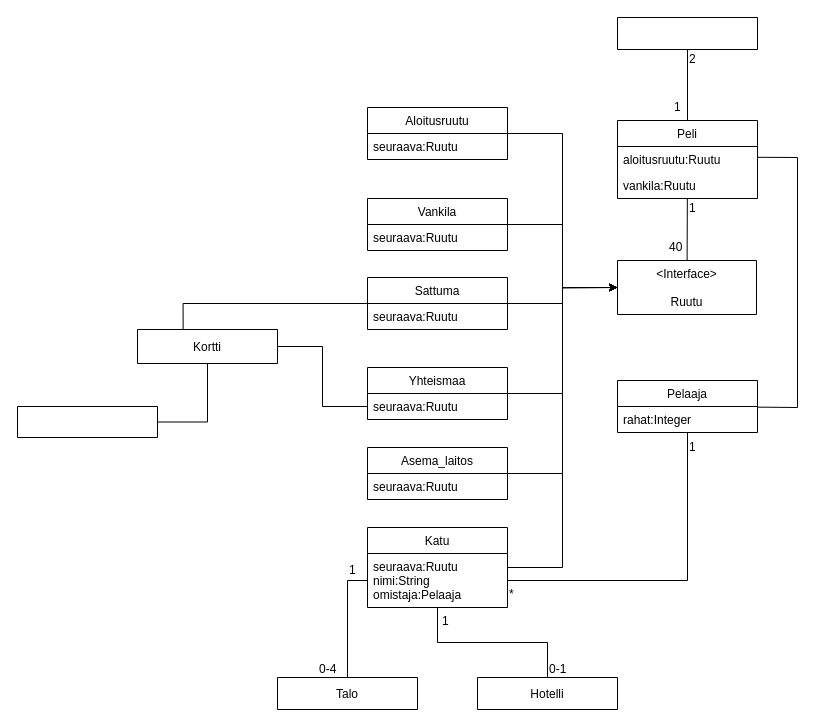
Image size: 816x727. Some labels were removed from this diagram. Here are the shapes that lost their labels. From the top down, the centre of each, then its label:
At (687,33): "Noppa".
At (87,422): "Toiminto".
